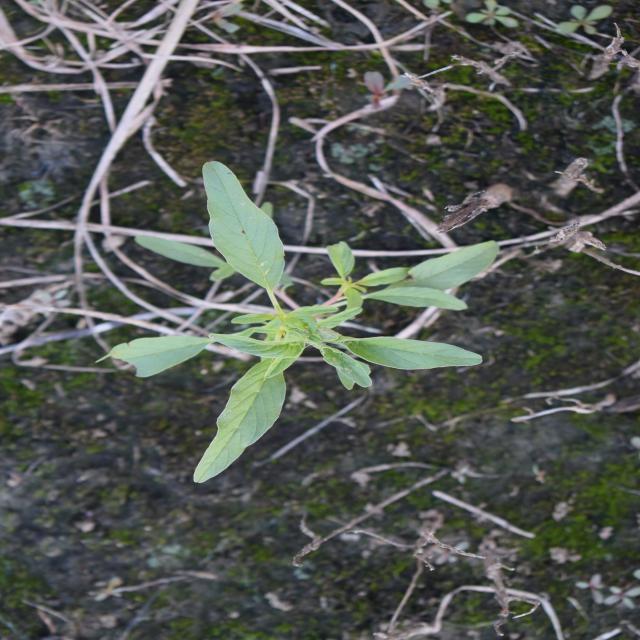Carpetweed: (550, 3, 616, 40), (464, 0, 522, 31)
Waterhemp: (94, 159, 504, 486)
